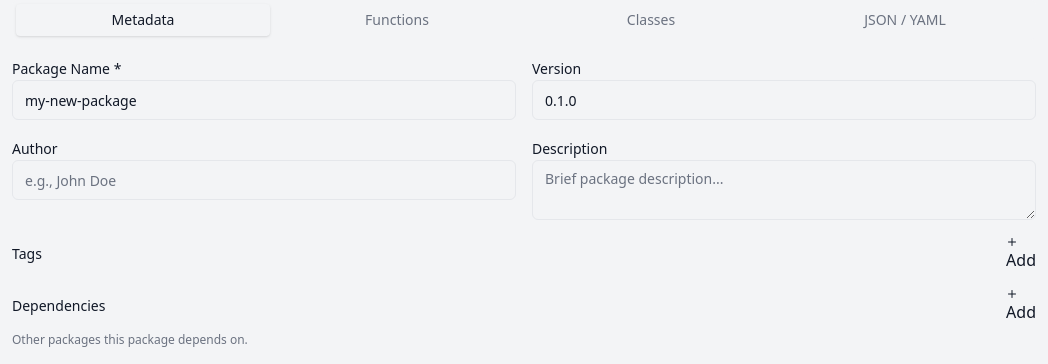
Scenario: PackageForm › shows empty state for functions tab
The image size is (1048, 364).
What coordinates should you click on to do the following:
click the tab "Functions"
I would click on:
 (397, 20)
Its box is [270,4,524,36].
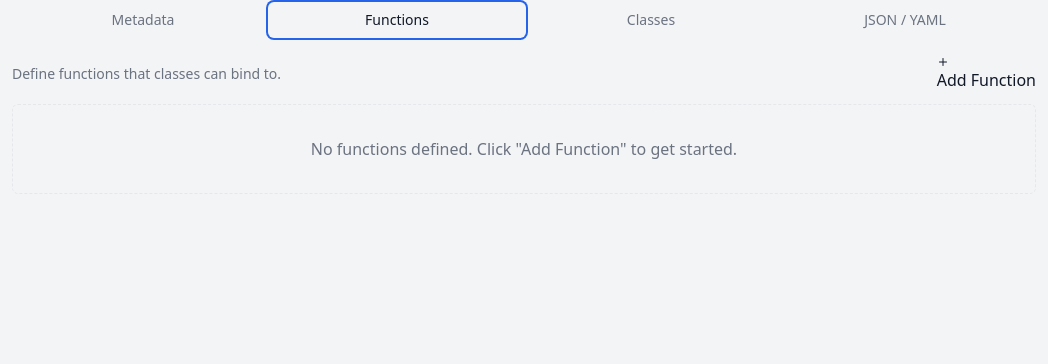
expect the text "No functions defined. Click \"Add Function\" to get started." is shown: met, box [12,104,1036,194]
